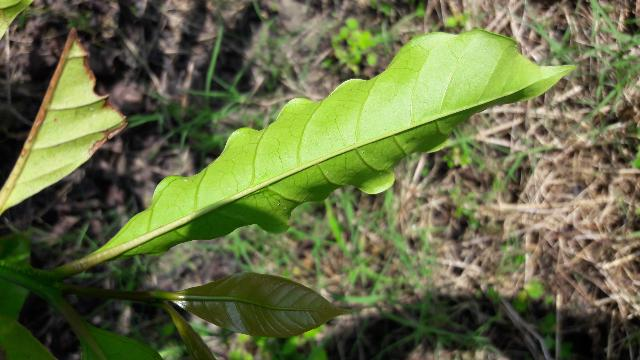healthy: (93, 38, 547, 260)
